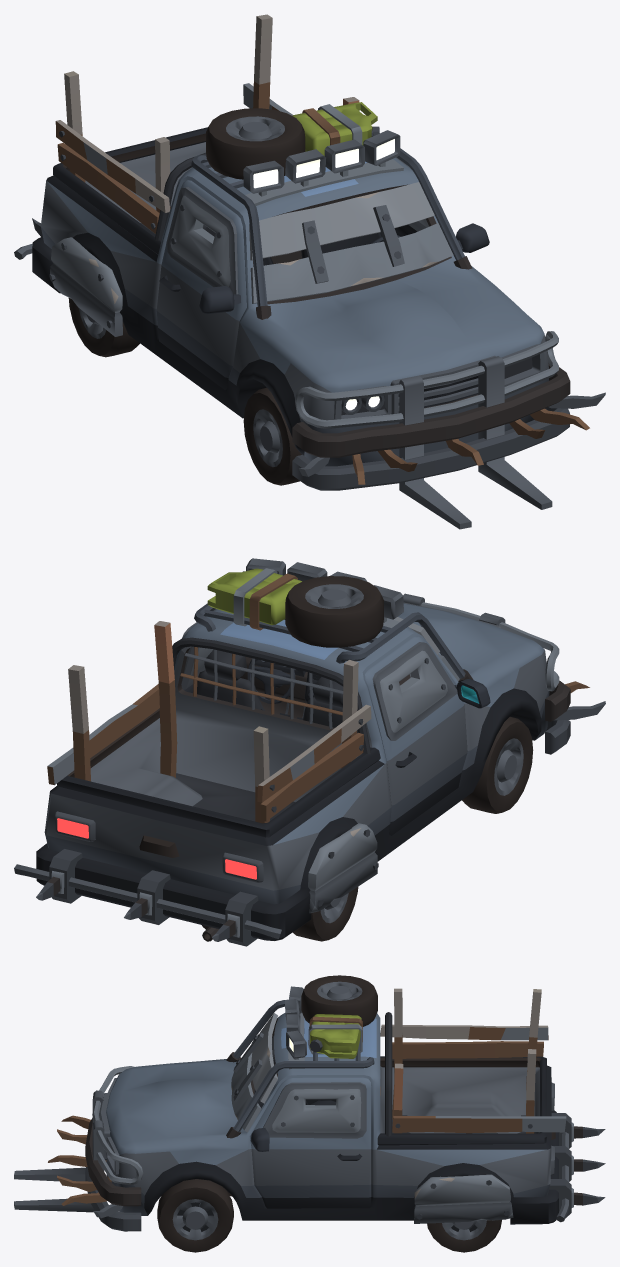
Rendered from apocalypse_car_pacote.glb.
3 views of the same model, one above another, from view 1: azimuth 30°, elevation 25°; view 2: azimuth 150°, elevation 25°; view 3: azimuth 270°, elevation 25° (orthographic). The views are drawn at different scales.
Parts seen in each view (by area): view 1: apocalypse_car_pacote, porta_dianteira_esq, roda_dianteira_esq, roda_traseira_esq, porta_dianteira_dir; view 2: apocalypse_car_pacote, porta_dianteira_esq, roda_dianteira_esq, roda_traseira_esq, porta_dianteira_dir; view 3: apocalypse_car_pacote, porta_dianteira_dir, roda_dianteira_dir, roda_traseira_dir.
Part boxes in pixels (<box>): apocalypse_car_pacote: <box>14,14,605,529</box>; porta_dianteira_esq: <box>156,180,246,390</box>; roda_dianteira_esq: <box>243,387,301,485</box>; roda_traseira_esq: <box>68,298,139,357</box>; porta_dianteira_dir: <box>383,157,489,252</box>; apocalypse_car_pacote: <box>14,558,605,946</box>; porta_dianteira_esq: <box>365,636,490,835</box>; roda_dianteira_esq: <box>462,716,533,813</box>; roda_traseira_esq: <box>293,887,358,941</box>; porta_dianteira_dir: <box>181,609,217,693</box>; apocalypse_car_pacote: <box>14,975,605,1231</box>; porta_dianteira_dir: <box>250,1077,371,1208</box>; roda_dianteira_dir: <box>157,1179,233,1252</box>; roda_traseira_dir: <box>427,1220,501,1252</box>.
Bounding box in the file's own units: 2.29 × 1.91 × 4.99.
Materials: 3 (1 with a texture image).
